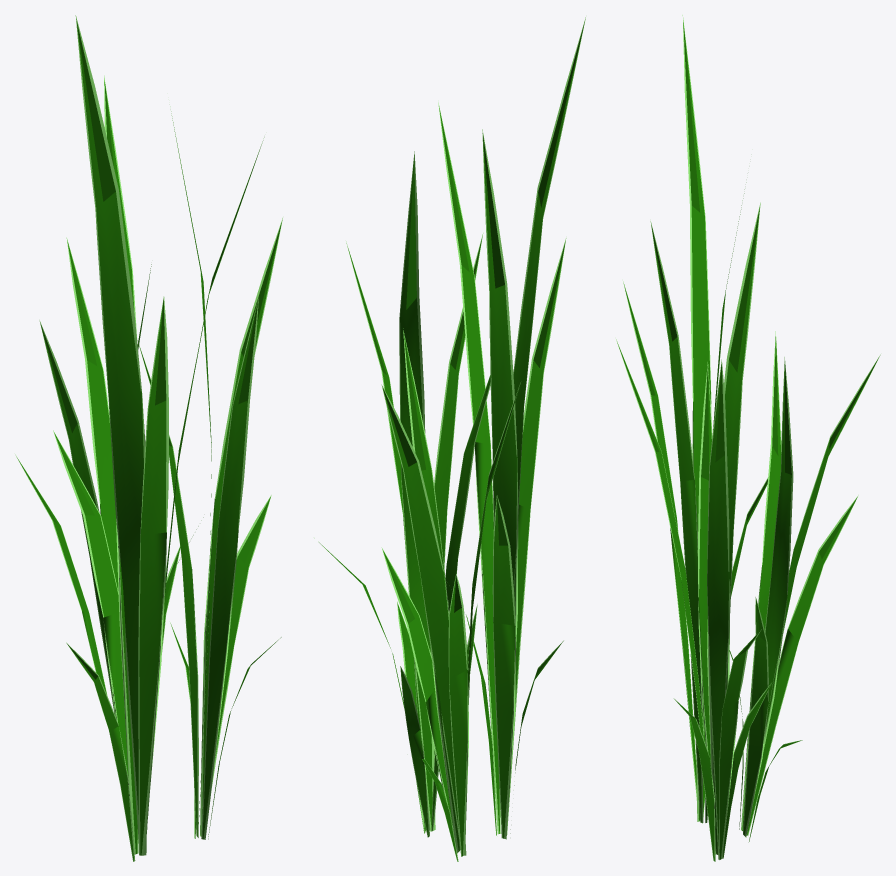
Rendered from pasto.obj.
The picture shows the model from 3 angles, left to right: view 1: azimuth 30°, elevation 25°; view 2: azimuth 150°, elevation 25°; view 3: azimuth 270°, elevation 25°; orthographic projection. The views are drawn at different scales.
Parts seen in each view (by area): view 1: Potted_Snake:Mesh5960Plant_Snake_Leaf253Plant_Snake36Plant_Potte; view 2: Potted_Snake:Mesh5960Plant_Snake_Leaf253Plant_Snake36Plant_Potte; view 3: Potted_Snake:Mesh5960Plant_Snake_Leaf253Plant_Snake36Plant_Potte.
Part boxes in pixels (x1,y1,x2,y2): Potted_Snake:Mesh5960Plant_Snake_Leaf253Plant_Snake36Plant_Potte: (15, 15, 282, 861); Potted_Snake:Mesh5960Plant_Snake_Leaf253Plant_Snake36Plant_Potte: (314, 17, 585, 861); Potted_Snake:Mesh5960Plant_Snake_Leaf253Plant_Snake36Plant_Potte: (616, 15, 880, 861).
Size of the model in its own units: 0.4268 by 1.49 by 0.4593.
Materials: 2 (2 with a texture image).
